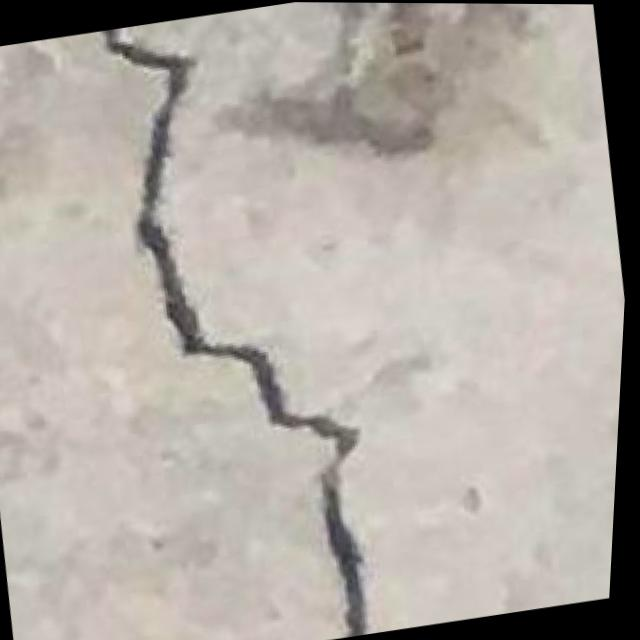Crack: (59, 0, 433, 640)
